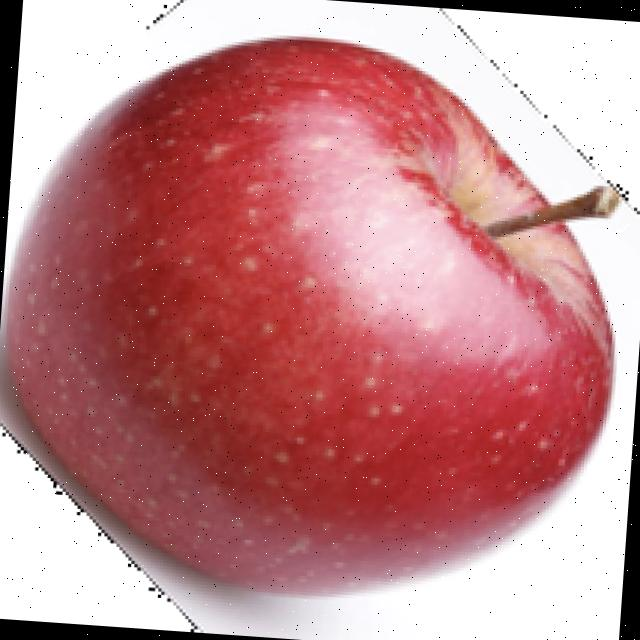apple: (0, 30, 635, 633)
